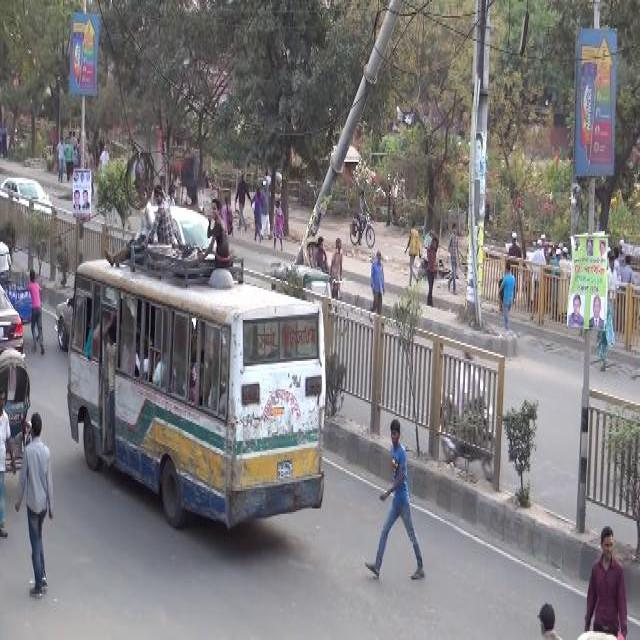bicycle: (346, 188, 378, 246)
bus: (64, 244, 328, 530)
rickshaw: (1, 343, 33, 475), (302, 233, 346, 279)
